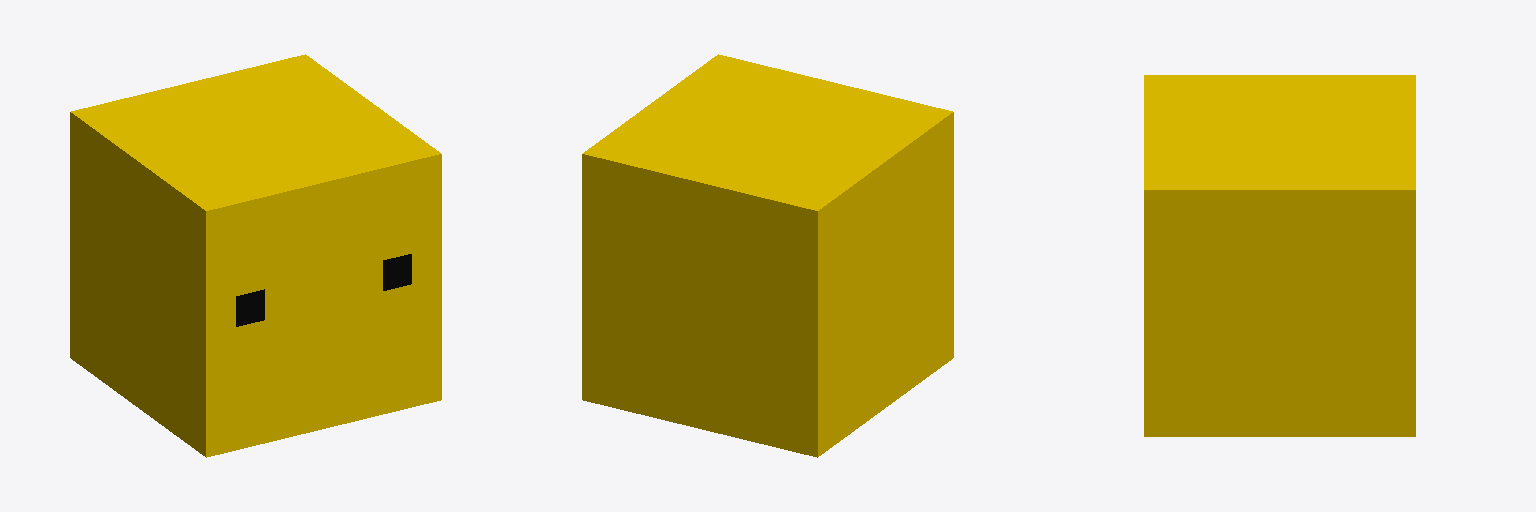
3 views of the same model, side by side, from view 1: azimuth 30°, elevation 25°; view 2: azimuth 150°, elevation 25°; view 3: azimuth 270°, elevation 25° (orthographic).
Size of the model in its own units: 8 by 8 by 8.
Materials: 1 (1 with a texture image).